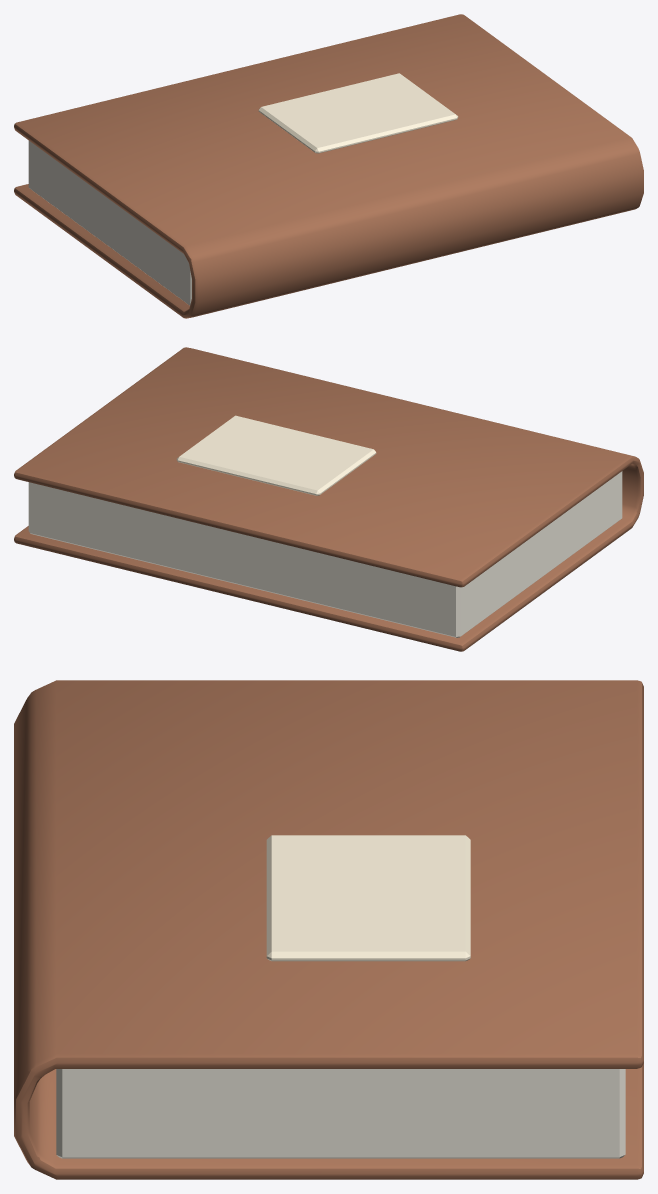
Rendered from livro_fechado_marrom.glb.
3 views of the same model, one above another, from view 1: azimuth 30°, elevation 25°; view 2: azimuth 150°, elevation 25°; view 3: azimuth 270°, elevation 25° (orthographic). The views are drawn at different scales.
Parts seen in each view (by area): view 1: livro_fechado_marrom; view 2: livro_fechado_marrom; view 3: livro_fechado_marrom.
Boxes of the visible parts, left/top/right/bottom form: livro_fechado_marrom: left=14, top=14, right=643, bottom=318; livro_fechado_marrom: left=14, top=347, right=643, bottom=651; livro_fechado_marrom: left=14, top=680, right=643, bottom=1179.
Bounding box in the file's own units: 0.22 × 0.0362 × 0.1545.
1 material, 1 textured.
